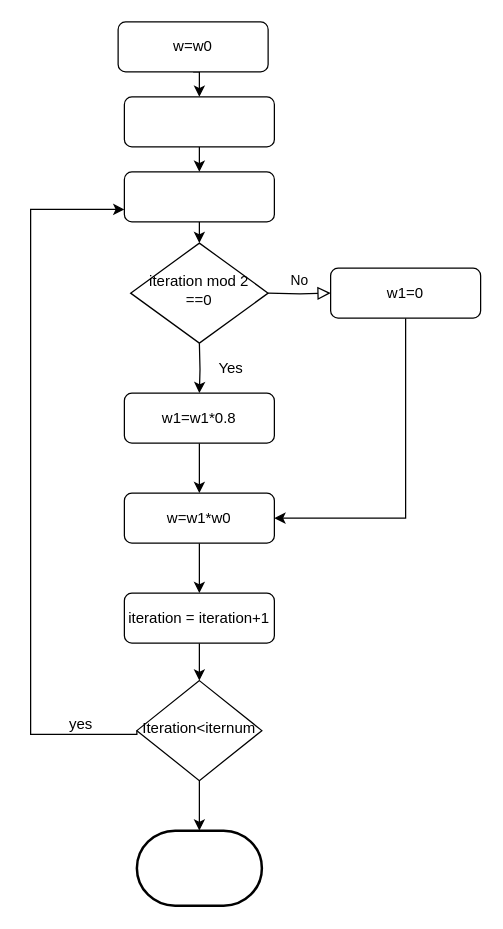
Image size: 503x929. Some labels were removed from this diagram. The centre of each missing label's shape, as x and y in pixels:
"End" belongs at point 198,867.
"iteration = 1" belongs at point 198,121.
"w1=1" belongs at point 198,196.
